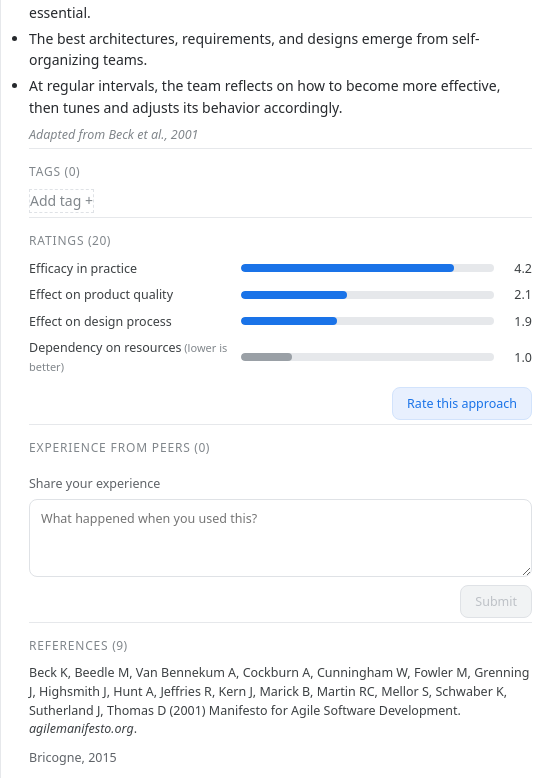
ratings › keeps the stars hidden until the button is pressed
(page scrolled)
Click the button "Rate this approach" at (462, 403), box top-left (392, 387), bottom-right (532, 420)
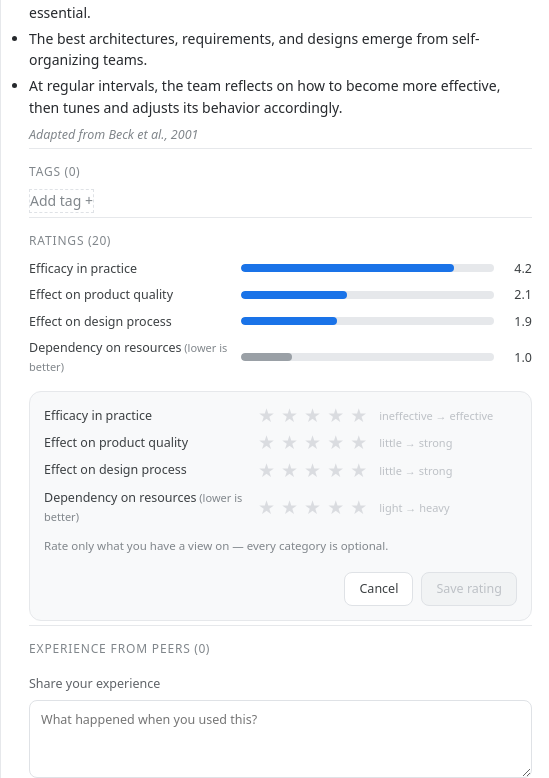
Check: the element named "Efficacy in practice" is shown, box top-left (256, 406), bottom-right (517, 425)
